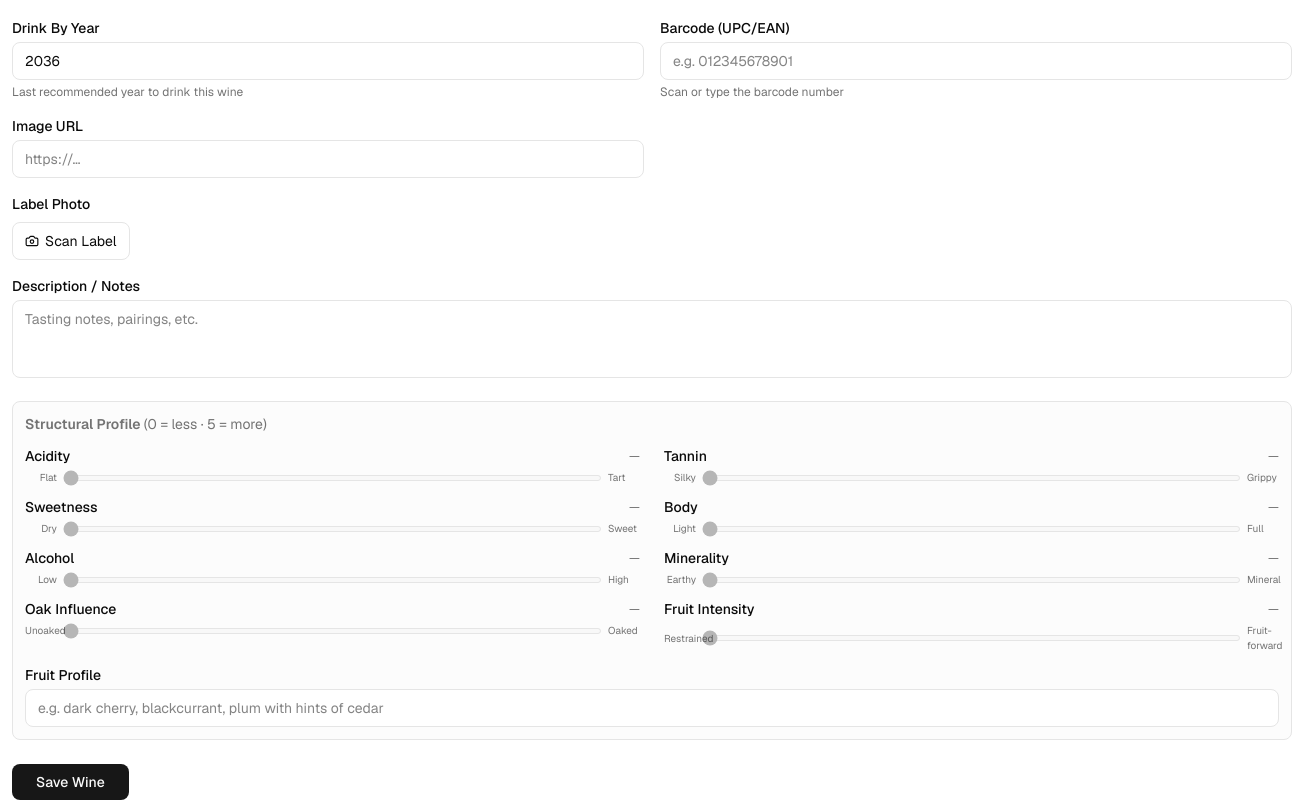
WineForm › shows error when name is empty on submit
(page scrolled)
Click the button "Save Wine" at [70, 782], box x1=12 y1=764 x2=129 y2=799
(page scrolled)
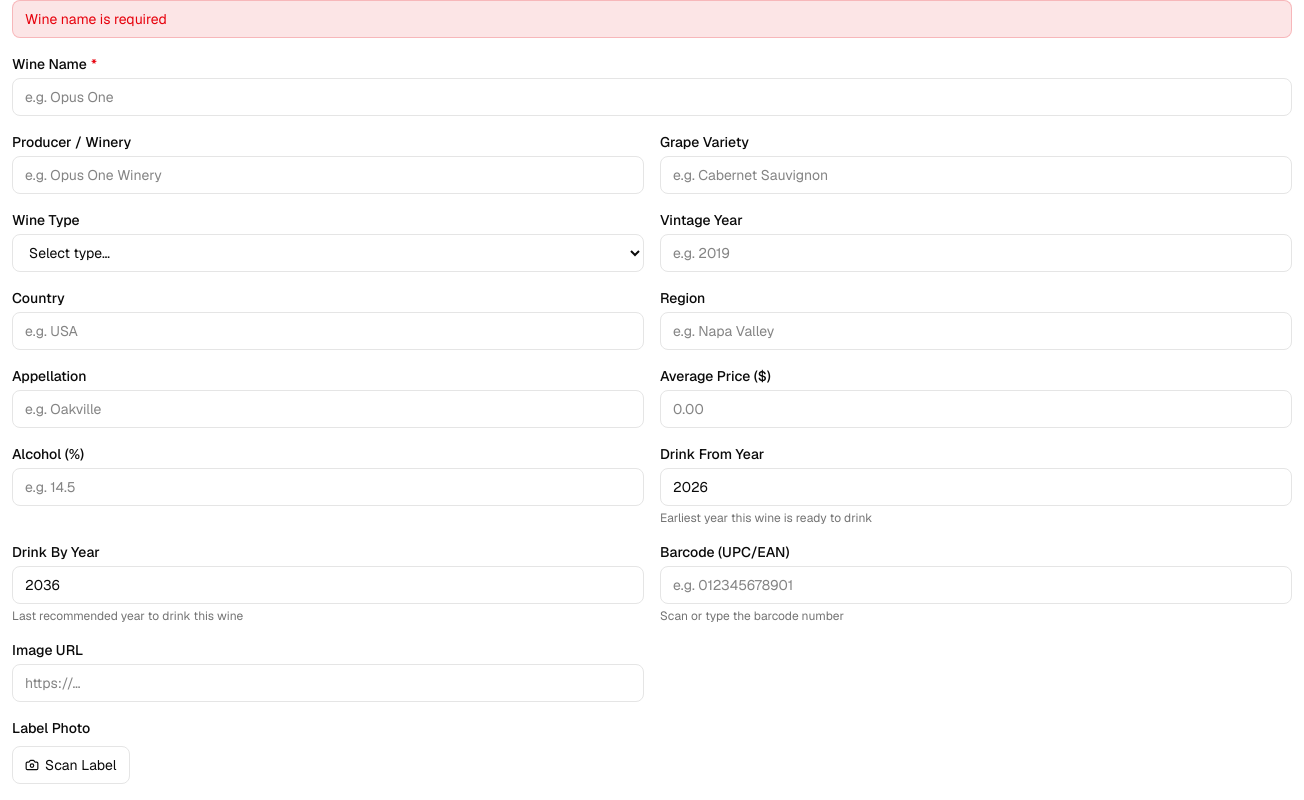
Now the text "Wine name is required" is shown, box x1=12 y1=0 x2=1292 y2=38
